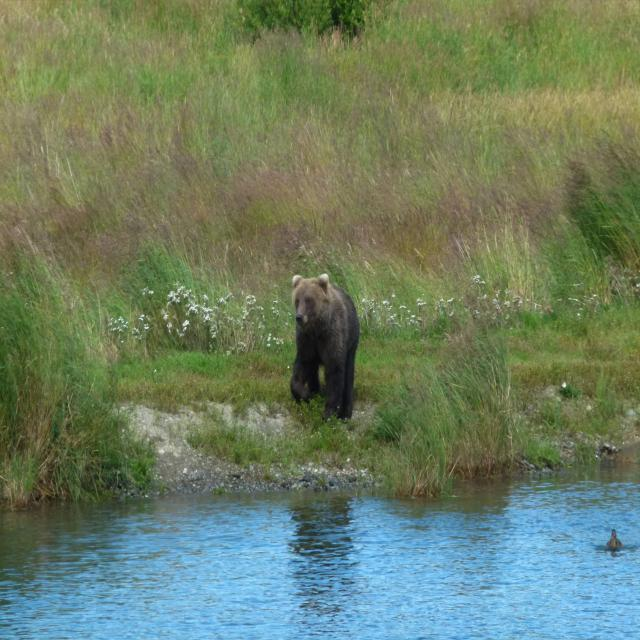bear face: (290, 272, 359, 414)
